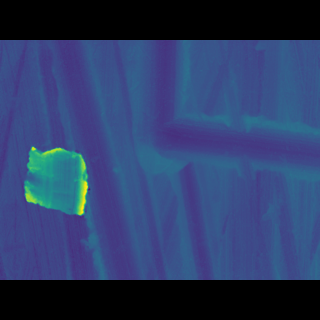Loch: (142, 69, 219, 250), (142, 123, 320, 178), (20, 147, 96, 210)
